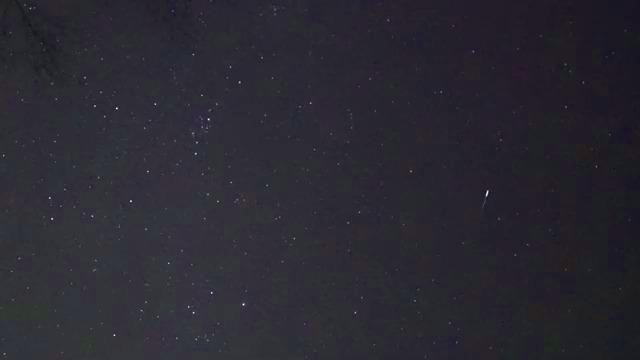meteorite: (472, 183, 498, 216)
